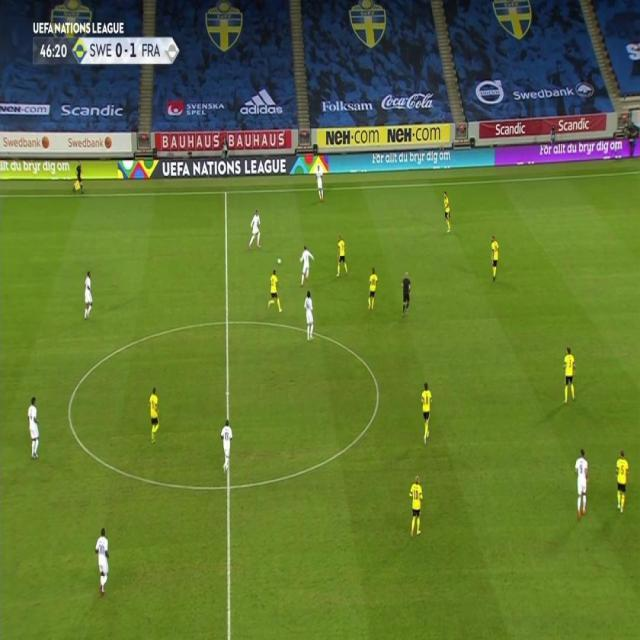ball: (277, 257, 281, 264)
player: (93, 526, 112, 597), (613, 448, 631, 515), (574, 447, 590, 520), (408, 473, 425, 538), (26, 396, 43, 461), (419, 381, 434, 445), (562, 345, 578, 405), (148, 386, 162, 444), (220, 417, 234, 473), (266, 268, 283, 313), (298, 245, 315, 286), (303, 290, 316, 343), (247, 208, 263, 250), (366, 266, 380, 312), (83, 269, 95, 321), (335, 234, 349, 277), (489, 234, 501, 284), (314, 163, 326, 202), (442, 189, 452, 233)
referee: (400, 270, 412, 319), (73, 161, 85, 194)
